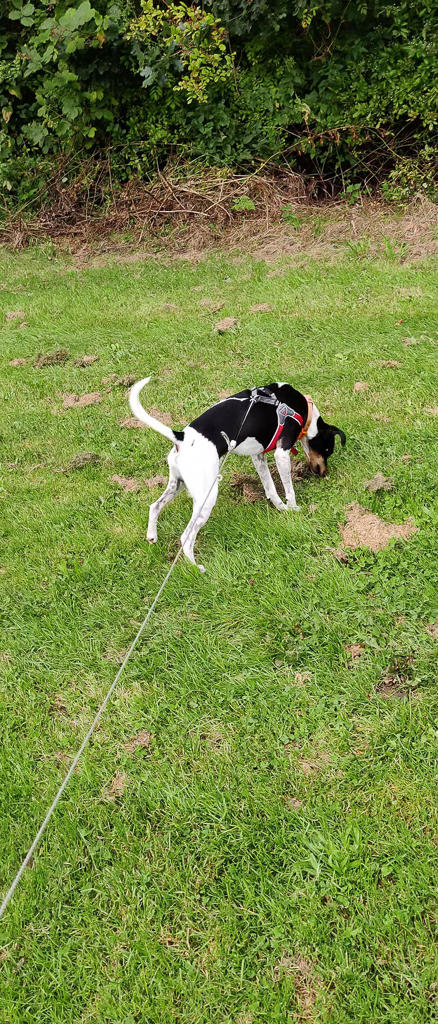Dog: (119, 355, 352, 582)
